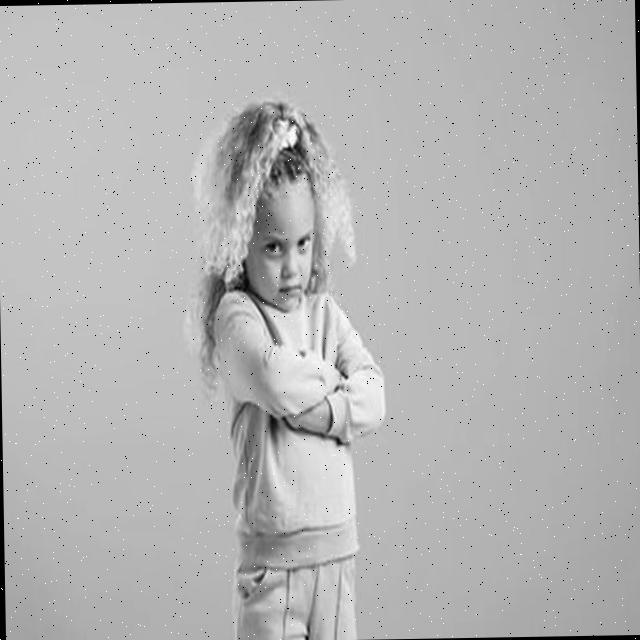Angry: (242, 180, 314, 312)
